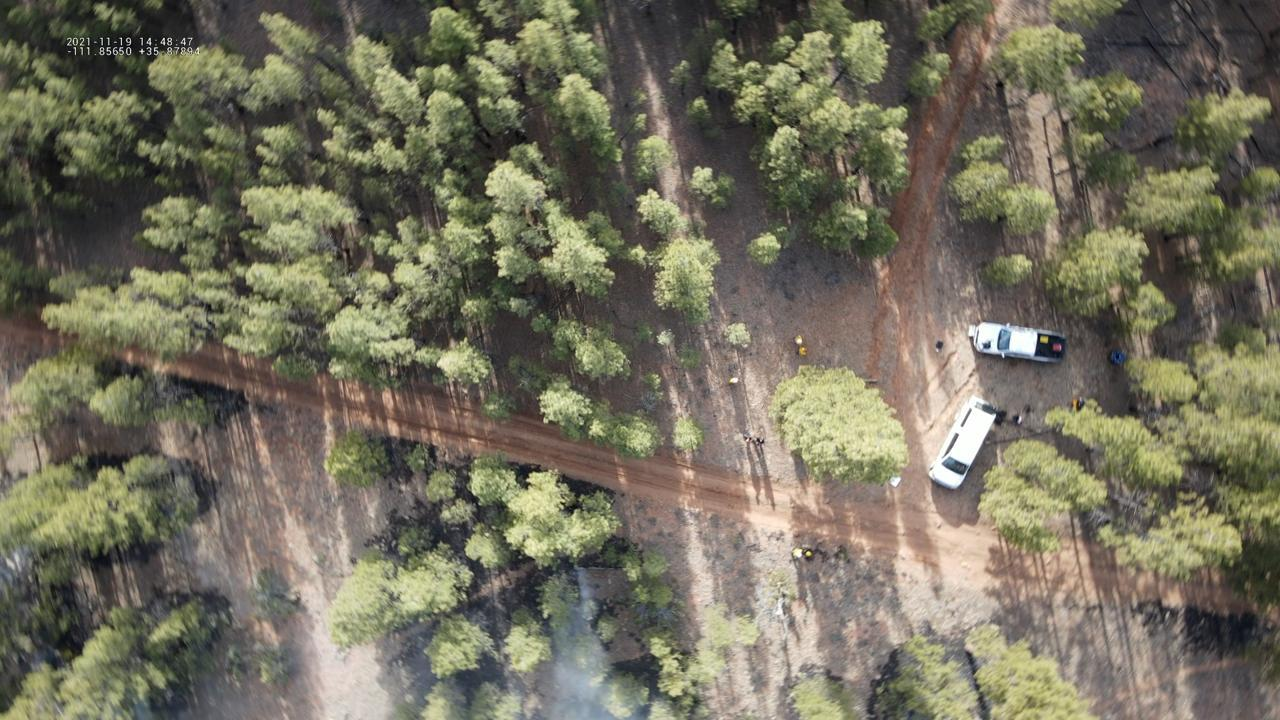smoke: (534, 563, 653, 720)
